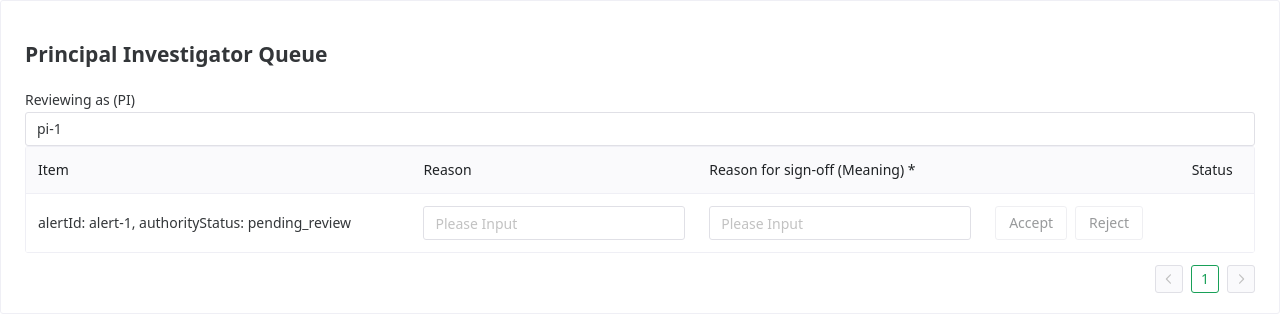
AuthorityQueue › shows a pending raiser event and gates Accept/Reject on the Meaning field
The image size is (1280, 331).
Expected: the element with test id "queue-list" is shown, x1=25 y1=146 x2=1255 y2=293
Expected: the button "Accept" is disabled, x1=995 y1=206 x2=1067 y2=240
Type "reviewed" into the field with test id "queue-meaning-evt-1".
click(840, 223); type("reviewed")  # box x1=721 y1=206 x2=959 y2=240
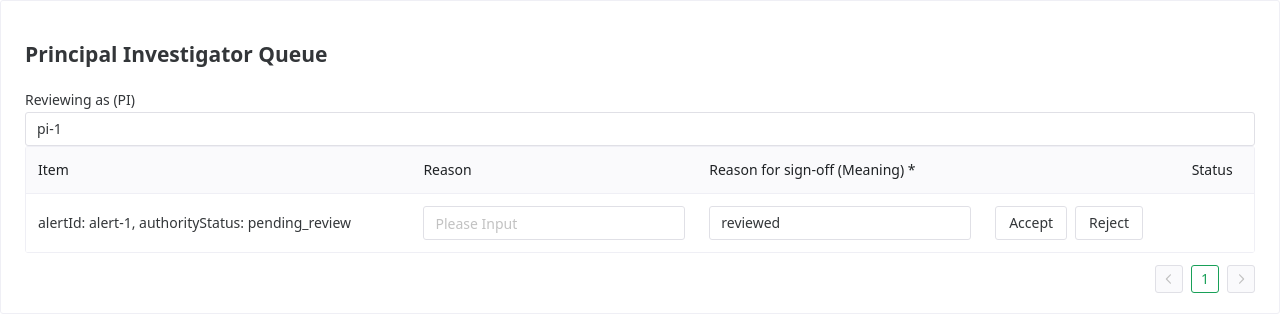
Now the button "Accept" is enabled, box x1=995 y1=206 x2=1067 y2=240
